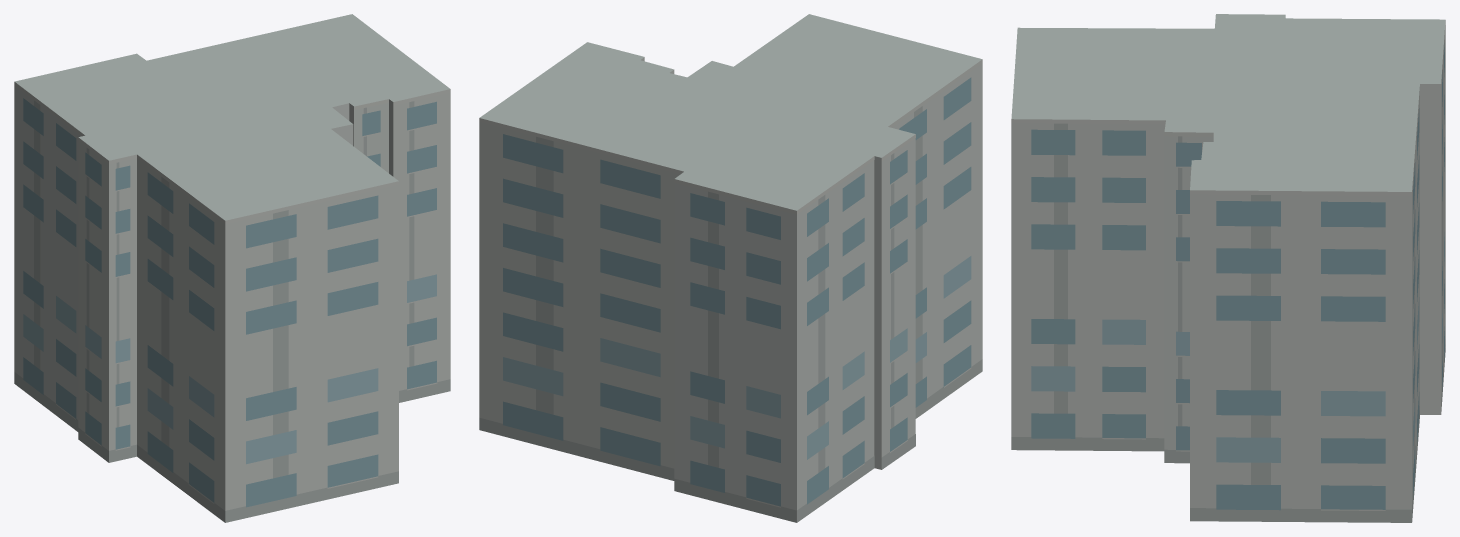
Rendered from survey-upis-32653942.glb.
3 views of the same model, side by side, from view 1: azimuth 30°, elevation 25°; view 2: azimuth 150°, elevation 25°; view 3: azimuth 270°, elevation 25° (orthographic). The views are drawn at different scales.
Parts seen in each view (by area): view 1: survey-upis-32653942.tmp; view 2: survey-upis-32653942.tmp; view 3: survey-upis-32653942.tmp.
Boxes of the visible parts, box(x1,y1,x2,y2) form: survey-upis-32653942.tmp: box(14, 14, 450, 522); survey-upis-32653942.tmp: box(479, 14, 982, 522); survey-upis-32653942.tmp: box(1011, 14, 1445, 522).
Bounding box in the file's own units: 22.85 × 19.8 × 23.55.
